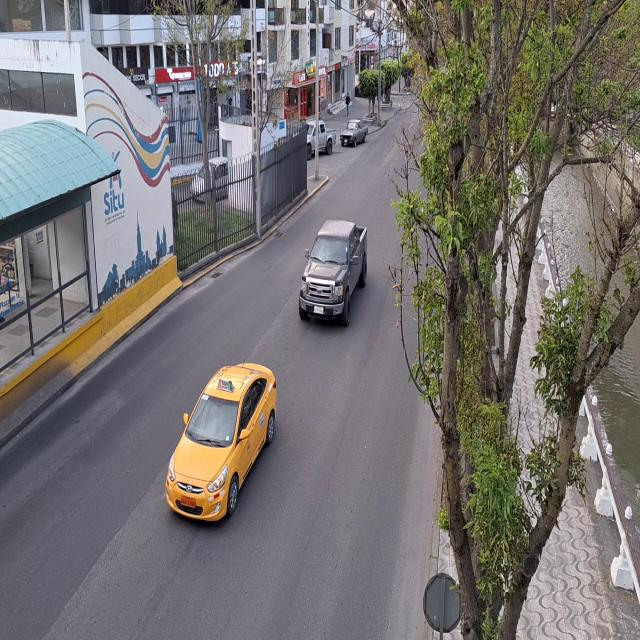CMT: (302, 222, 371, 327), (308, 121, 337, 155), (339, 119, 369, 148)
SED: (164, 360, 278, 525)
